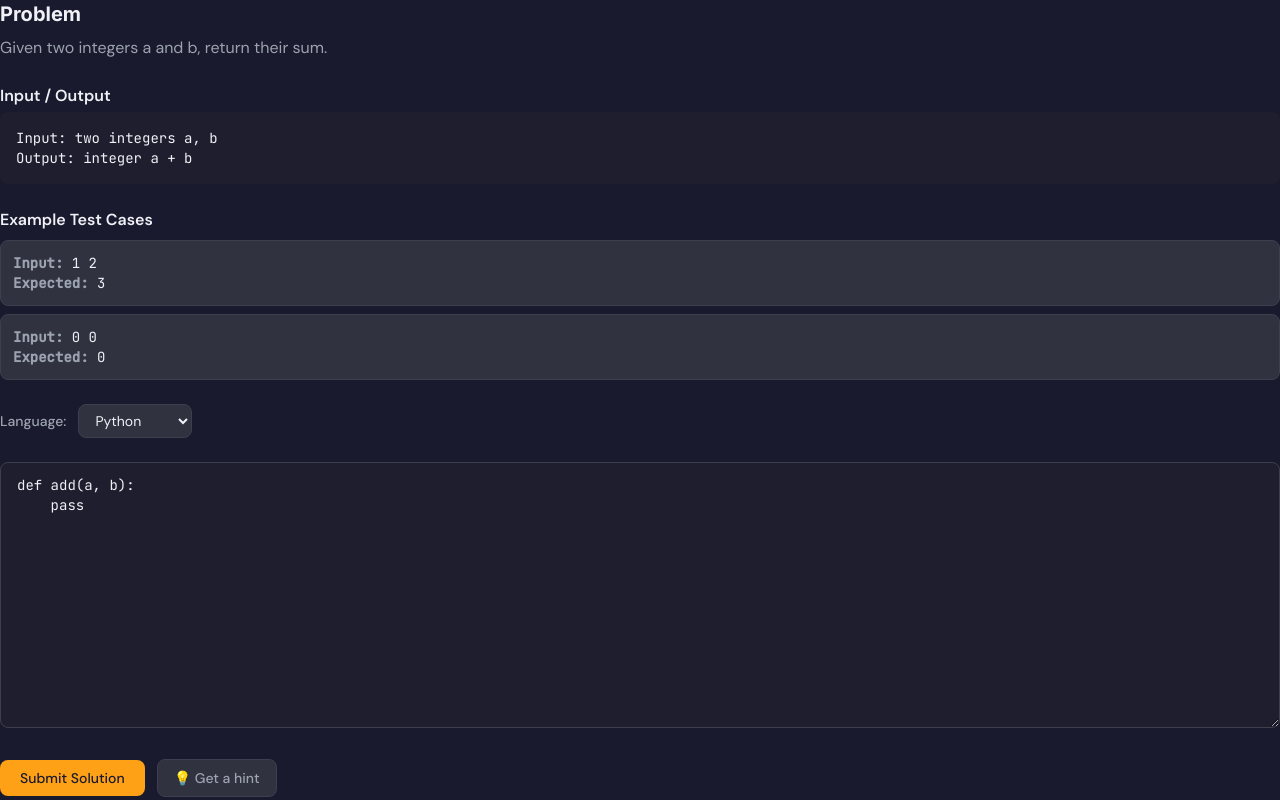
Test: CodeChallenge › displays error message on submission API failure
Click the button labelled "Submit Solution" at (72, 778), box top-left (0, 760), bottom-right (145, 796)
(page scrolled)
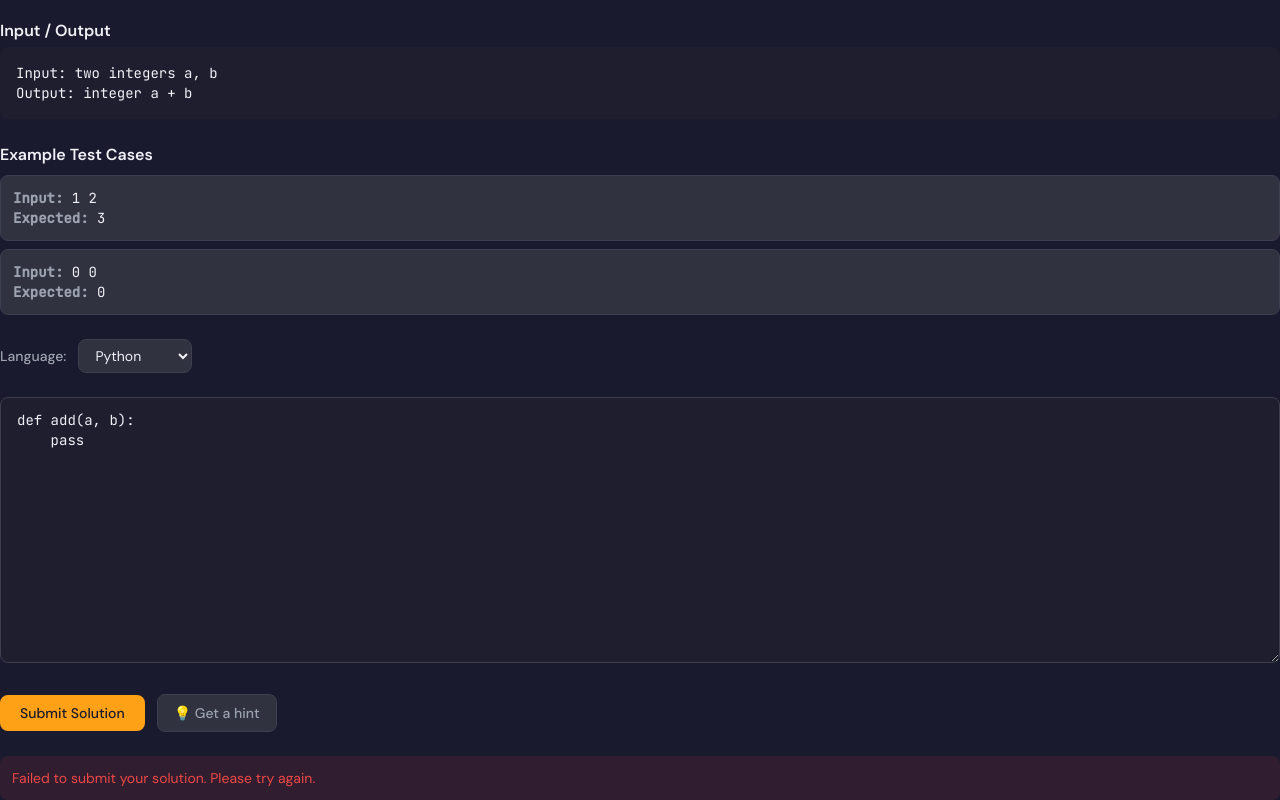
Check: the text "Failed to submit your solution. Please try again." is shown, box top-left (0, 756), bottom-right (1279, 799)
